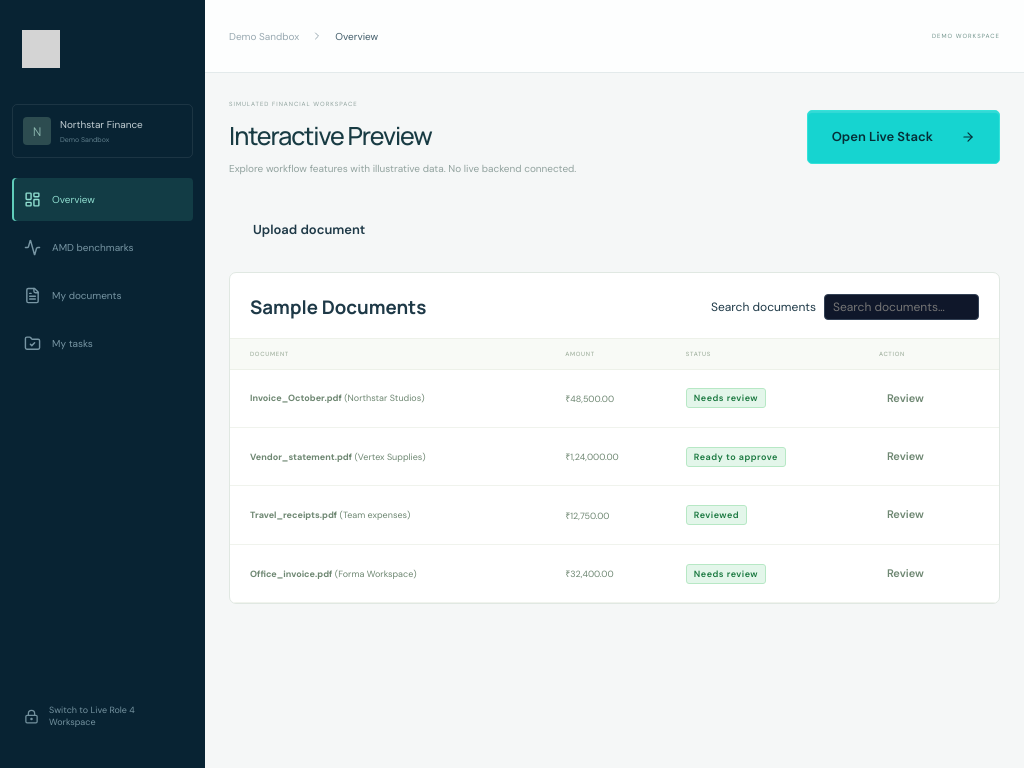
Test: Empty, Loading, and Error States › renders empty search state when no records match filter
This screenshot has width=1024, height=768.
Type "Nonexistent Document 9999" into the field labelled "Search documents" at (902, 307), box [824,294,979,320]
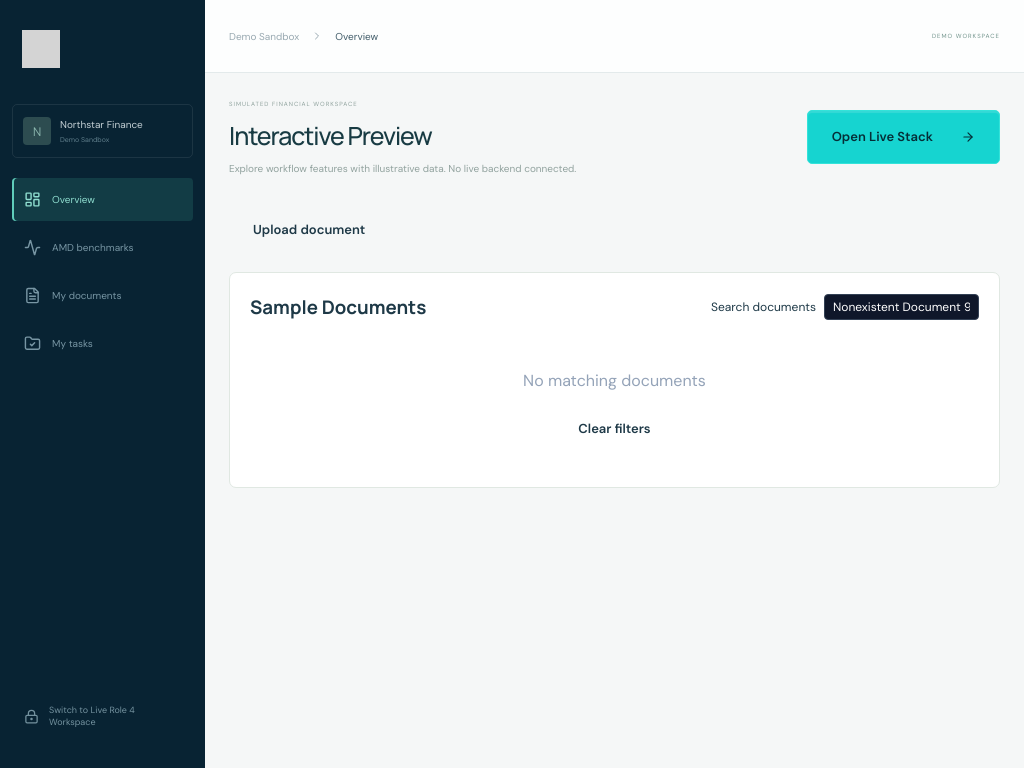
Result: the text "No matching documents" is shown at [523,370,706,391]
Result: the button "Clear filters" is shown at [554,403,675,455]
